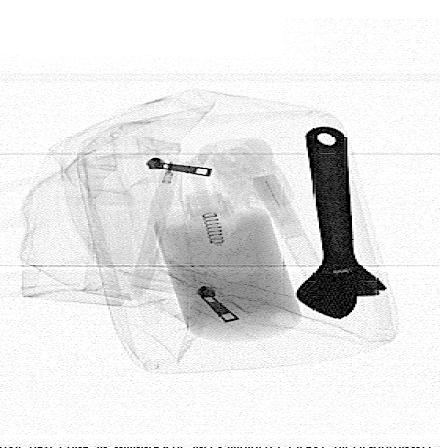Wrench: (295, 122, 391, 322)
